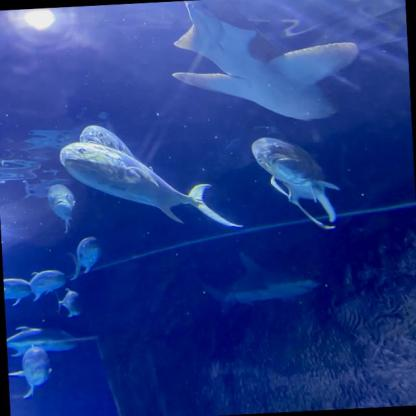fish: (57, 138, 241, 241), (246, 130, 354, 226), (70, 124, 159, 183), (6, 322, 88, 356), (13, 343, 59, 397), (20, 267, 69, 300), (69, 236, 107, 278), (50, 182, 81, 224), (3, 274, 38, 310), (54, 292, 94, 321)
shark: (161, 0, 360, 129), (195, 250, 322, 310)
